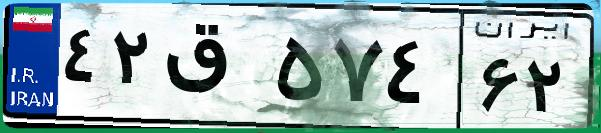2: (525, 38, 570, 115), (110, 28, 158, 98)
4: (385, 28, 445, 110), (57, 26, 110, 100)
5: (270, 28, 330, 110)
6: (475, 38, 525, 113)
7: (330, 28, 385, 110)
ق: (158, 20, 270, 120)
